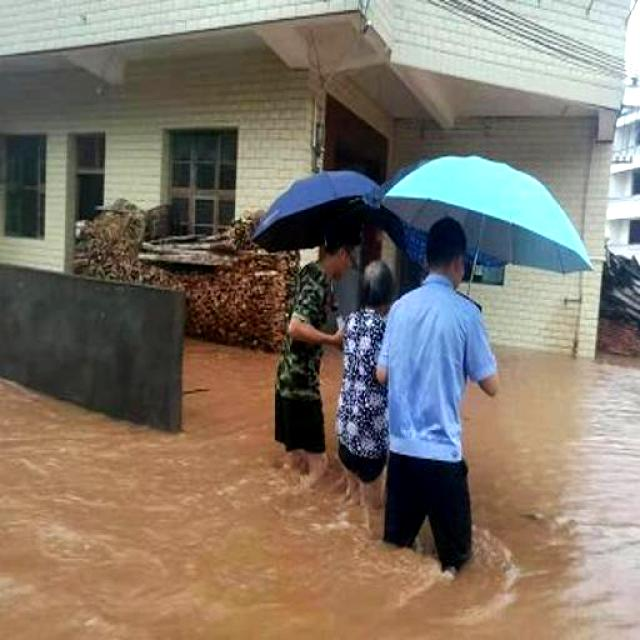civilian: (363, 219, 505, 578), (263, 221, 357, 479), (335, 253, 397, 513)
